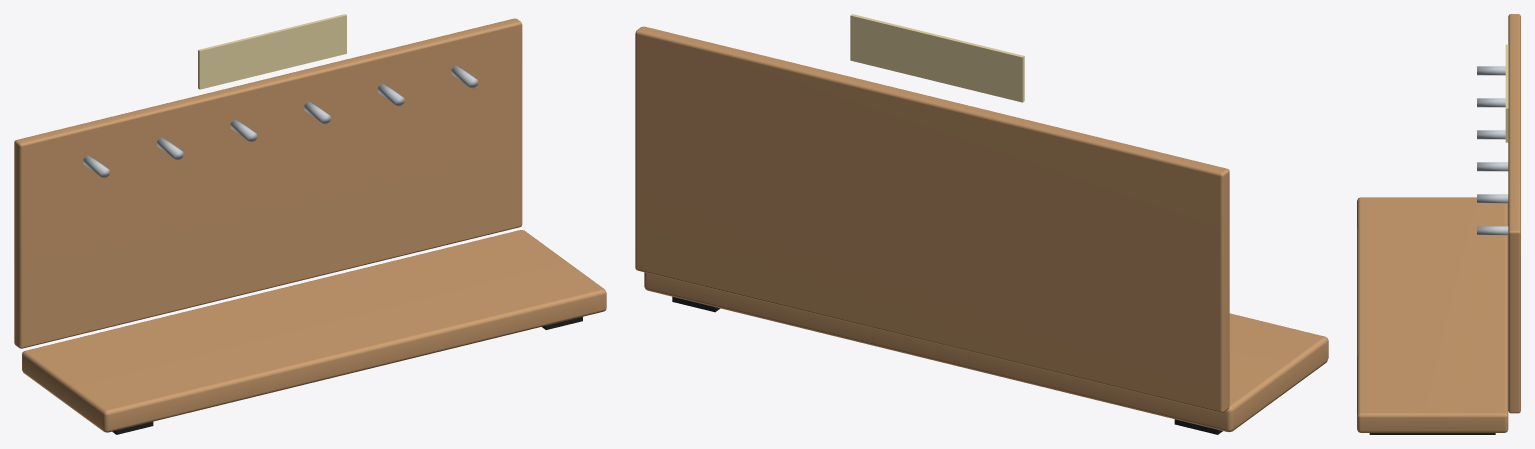
Rendered from MugShelf.fbx.
The picture shows the model from 3 angles, left to right: view 1: azimuth 30°, elevation 25°; view 2: azimuth 150°, elevation 25°; view 3: azimuth 270°, elevation 25°; orthographic projection. The views are drawn at different scales.
Visible parts, largest first — view 1: MugShelfBody; view 2: MugShelfBody; view 3: MugShelfBody.
Part boxes in pixels (left/top/right/bottom): MugShelfBody: left=14, top=14, right=606, bottom=434; MugShelfBody: left=635, top=14, right=1328, bottom=434; MugShelfBody: left=1357, top=14, right=1520, bottom=434.
Bounding box in the file's own units: 0.82 × 0.45 × 0.26.
